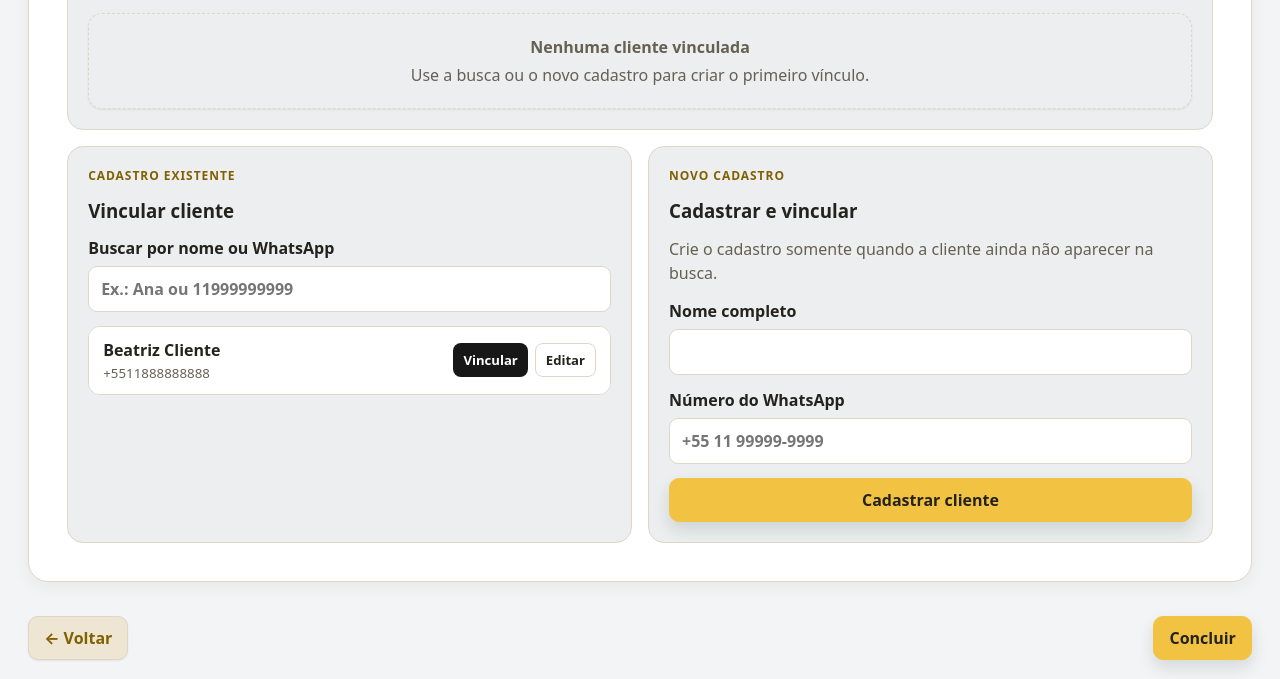
Test: editor administrativo de galeria › edita o nome da mesma cliente e recarrega a lista
(page scrolled)
Click the button with aria-label "Editar cadastro de Beatriz Cliente" at {"x": 565, "y": 360}, box [535,343,596,377]
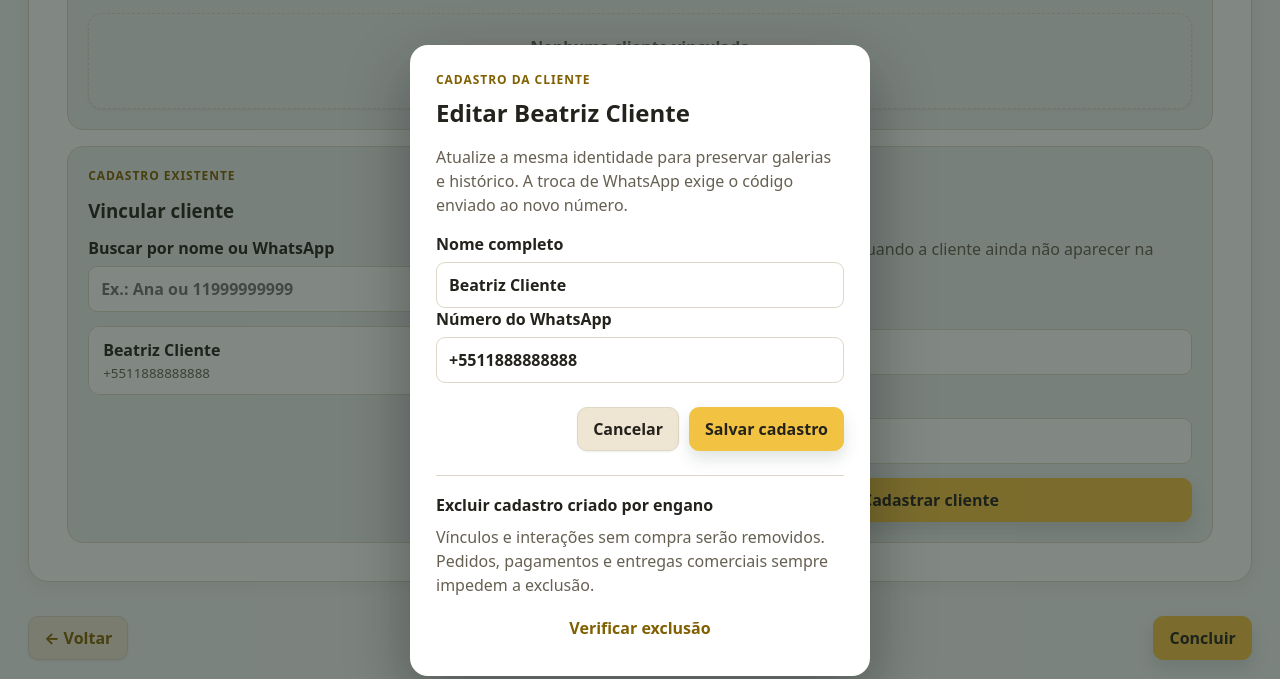
Replace the text in the field labelled "Nome completo" with "Beatriz Corrigida" at {"x": 640, "y": 284}, box [436,262,844,308]
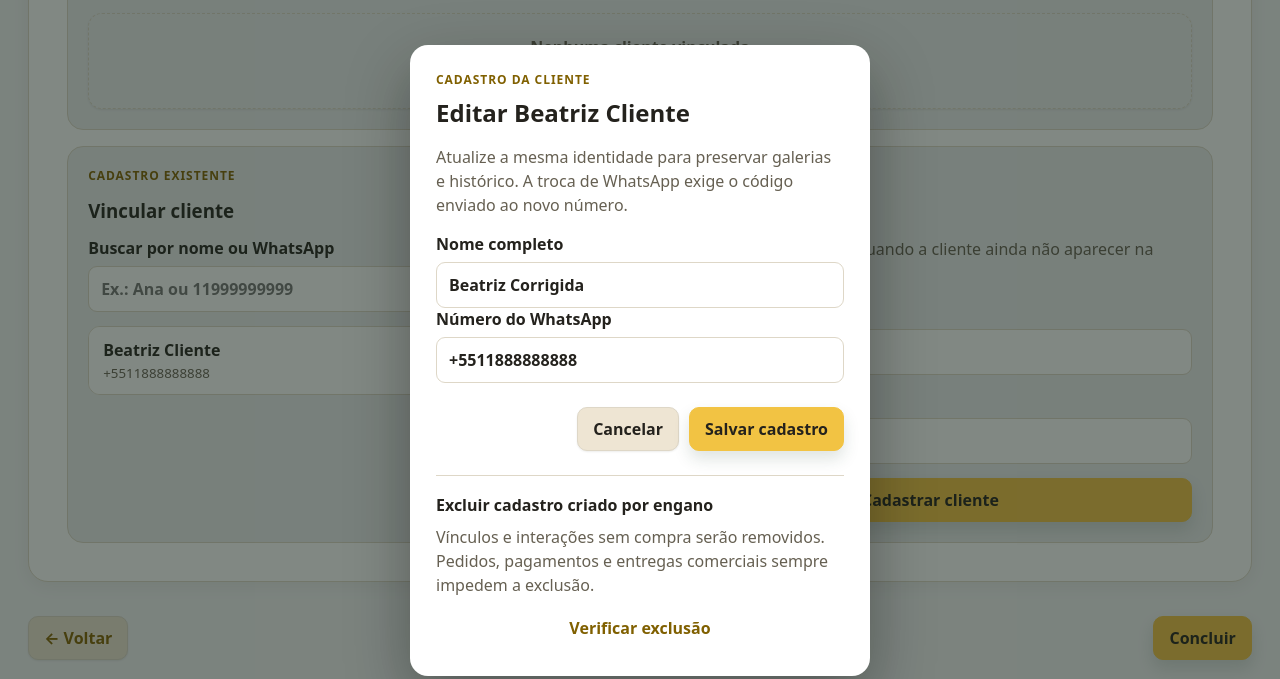
Click the button "Salvar cadastro" at {"x": 766, "y": 428}, box [689,406,844,450]
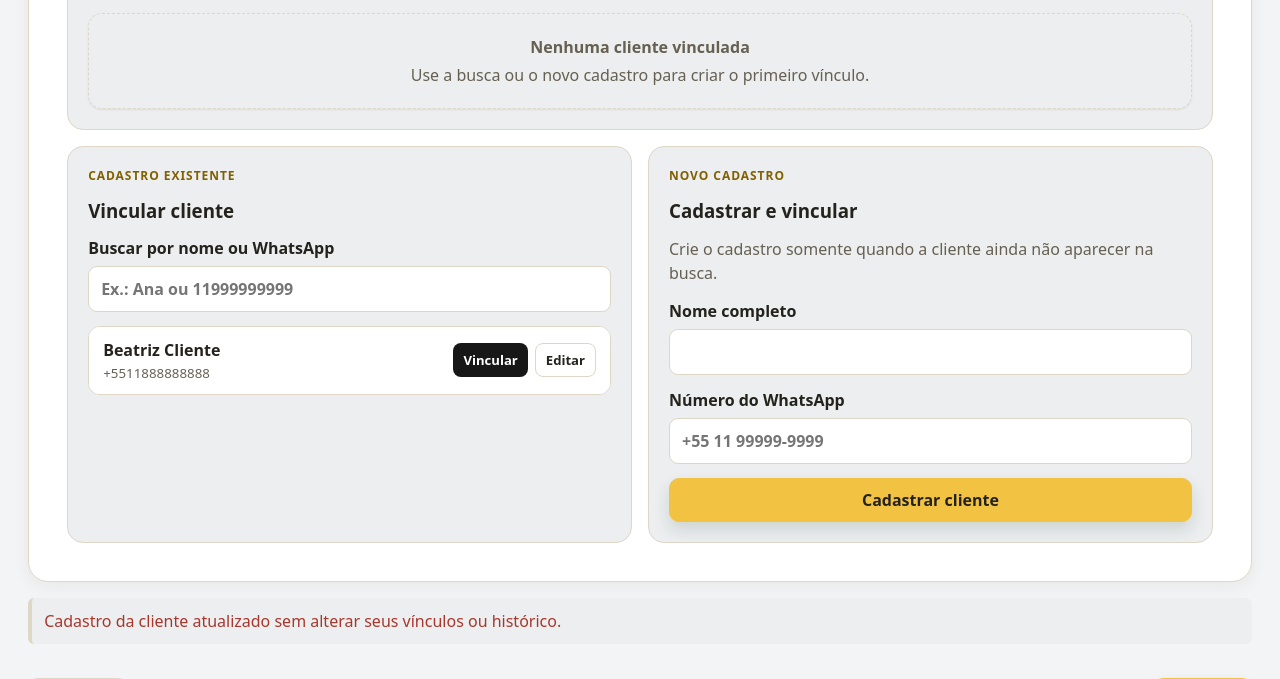
Check: the text "Cadastro da cliente atualizado sem alterar seus vínculos ou histórico." is shown, box [28,598,1252,644]
